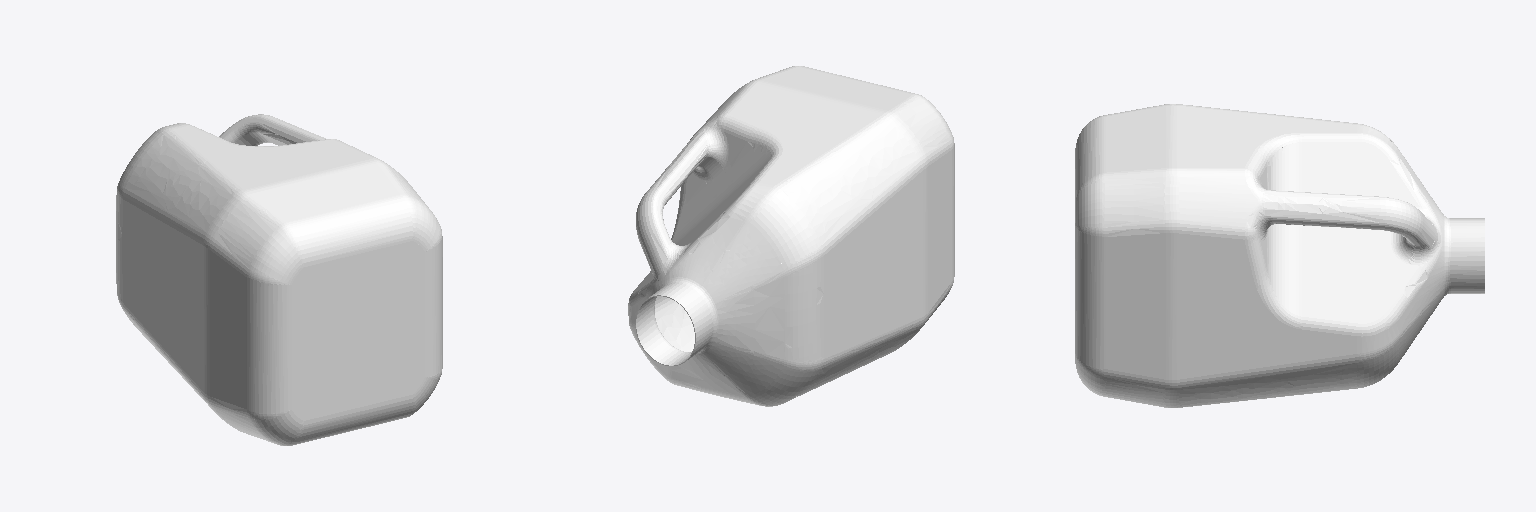
Rendered from MilkJug.obj.
3 views of the same model, side by side, from view 1: azimuth 30°, elevation 25°; view 2: azimuth 150°, elevation 25°; view 3: azimuth 270°, elevation 25° (orthographic).
Visible parts, largest first — view 1: milk_jug.001; view 2: milk_jug.001; view 3: milk_jug.001.
Boxes of the visible parts, <box> form: milk_jug.001: <box>116,114,442,445</box>; milk_jug.001: <box>628,66,954,406</box>; milk_jug.001: <box>1075,104,1484,407</box>.
Size of the model in its own units: 0.1564 by 0.172 by 0.2672.